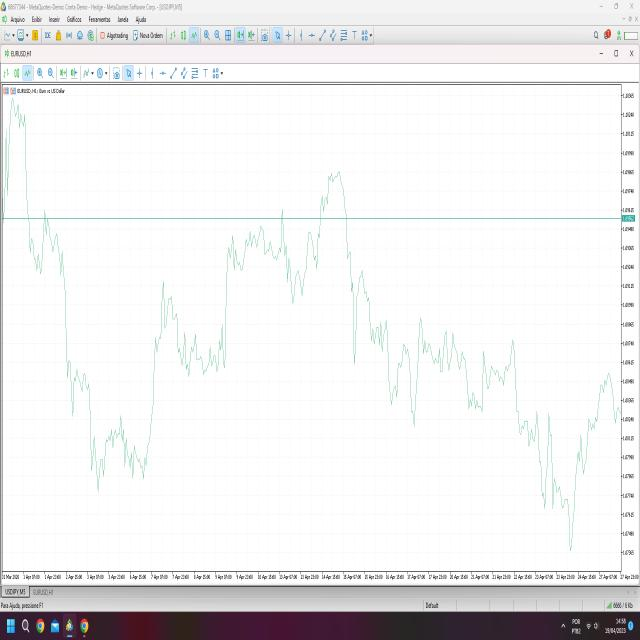bandeira_alta: (223, 208, 267, 369)
bandeira_baixa: (59, 244, 94, 416), (358, 239, 392, 359)
